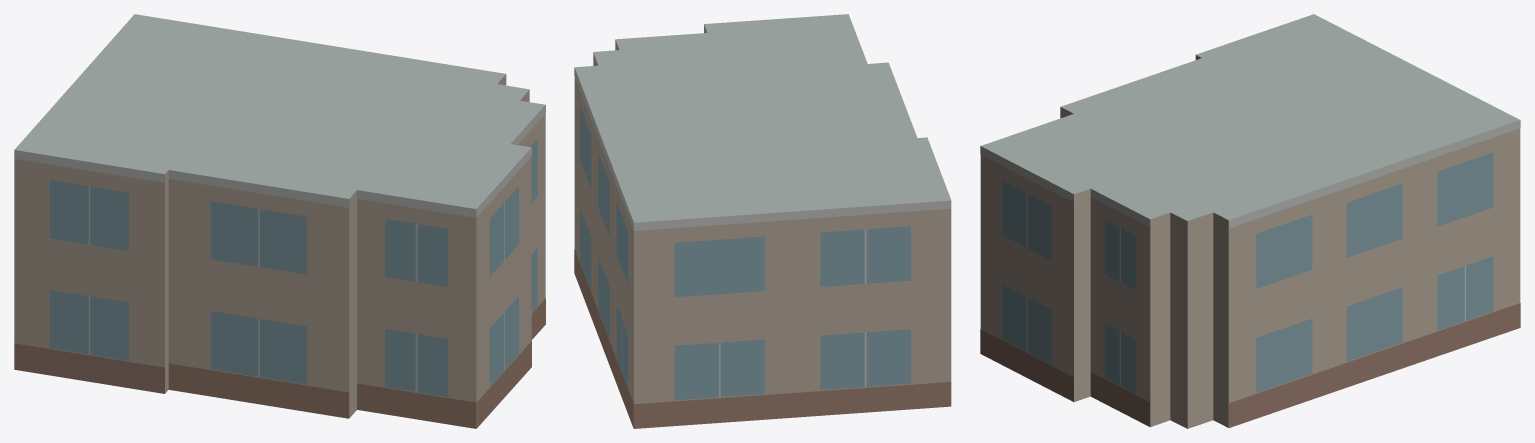
File: survey-upis-32829176.glb
3 renders of one model, left to right at view 1: azimuth 30°, elevation 25°; view 2: azimuth 150°, elevation 25°; view 3: azimuth 270°, elevation 25°, orthographic. The views are drawn at different scales.
Visible parts, largest first — view 1: survey-upis-32829176.tmp; view 2: survey-upis-32829176.tmp; view 3: survey-upis-32829176.tmp.
Part boxes in pixels (x1,y1,x2,y2): survey-upis-32829176.tmp: (14,14,545,428); survey-upis-32829176.tmp: (574,14,951,428); survey-upis-32829176.tmp: (980,14,1520,428).
Size of the model in its own units: 13.04 by 6.1 by 14.37.
